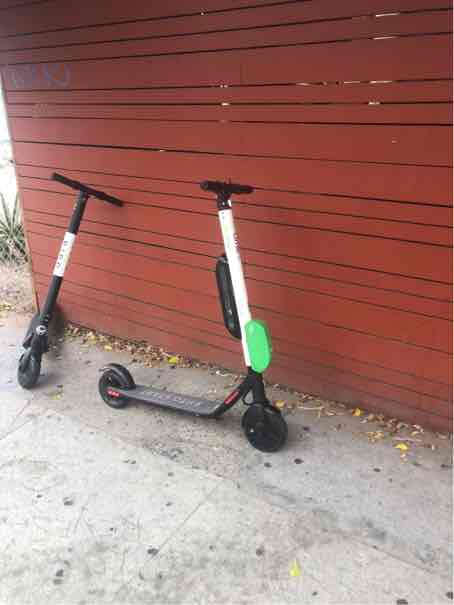scooter: (91, 162, 290, 456)
